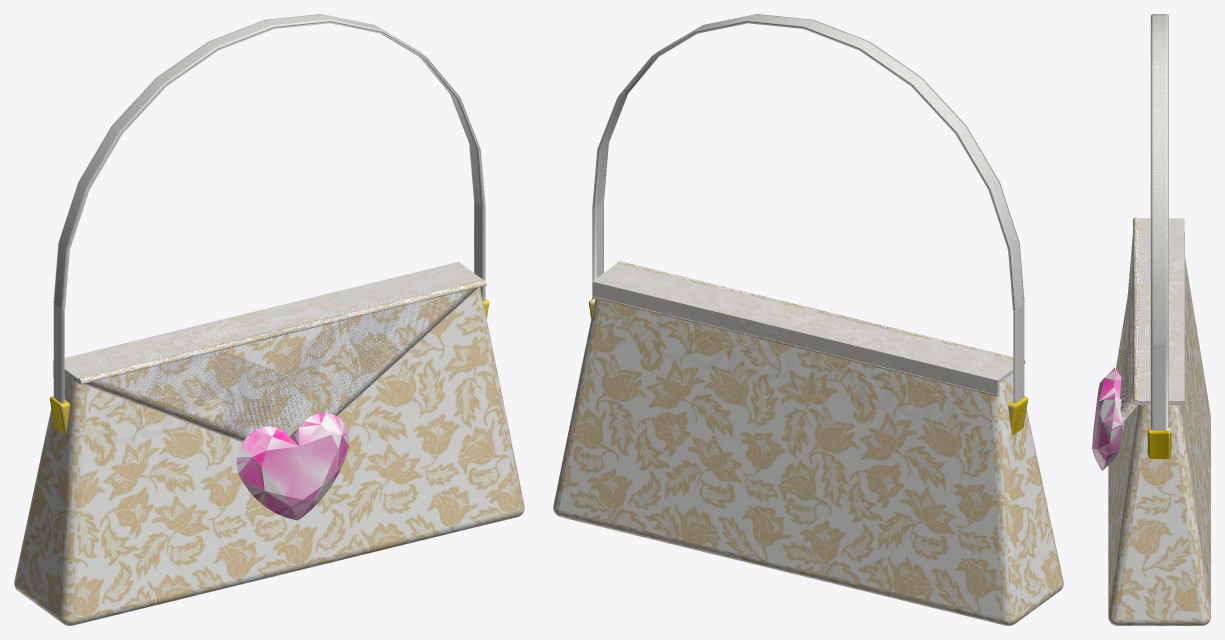
3 renders of one model, left to right at view 1: azimuth 30°, elevation 25°; view 2: azimuth 150°, elevation 25°; view 3: azimuth 270°, elevation 25°, orthographic. The views are drawn at different scales.
Parts seen in each view (by area): view 1: SketchUp (×3), group_0; view 2: SketchUp (×3); view 3: SketchUp (×4), group_0.
Part boxes in pixels (x1,y1,x2,y2): SketchUp (×3): [14, 14, 524, 625]; group_0: [236, 412, 349, 520]; SketchUp (×3): [553, 14, 1063, 625]; SketchUp (×4): [1108, 14, 1210, 625]; group_0: [1092, 368, 1124, 470].
Size of the model in its own units: 133 by 31.95 by 146.
Materials: 6 (4 with a texture image).
